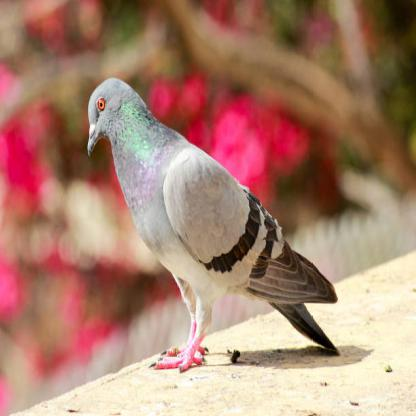Rock Pigeon: (80, 73, 336, 357)
